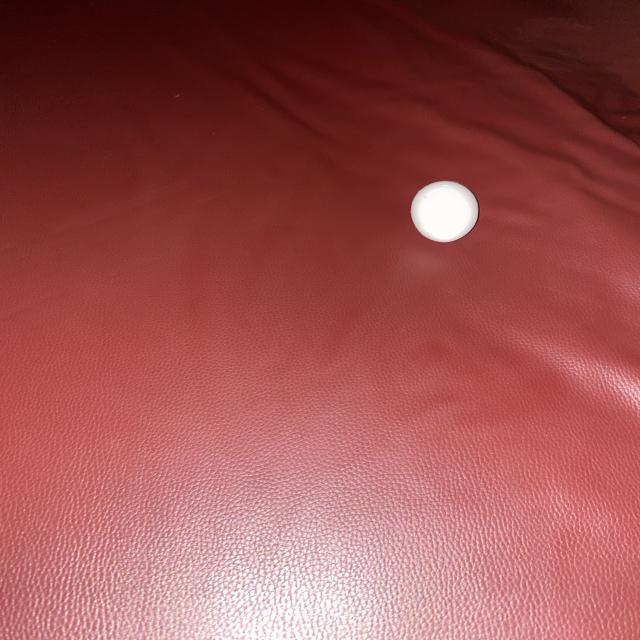egg: (407, 174, 485, 248)
